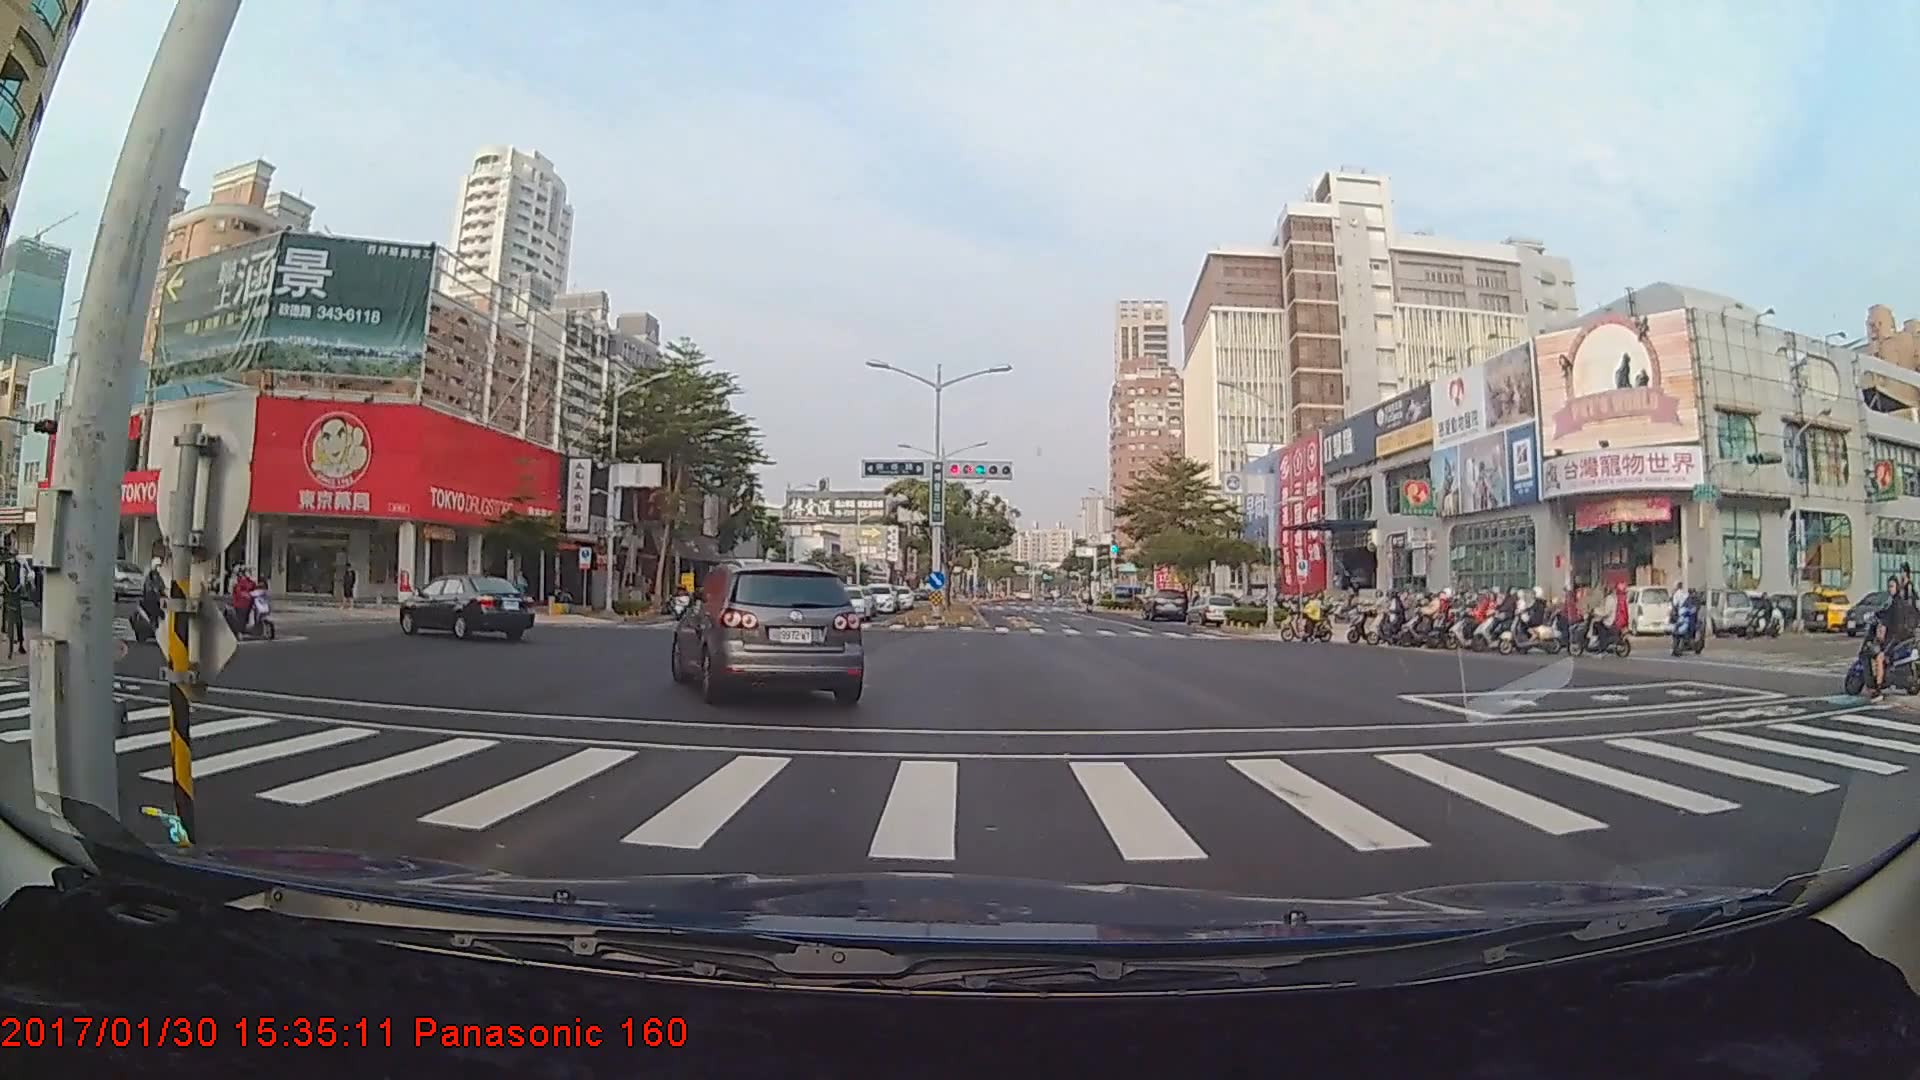rider: (1841, 563, 1920, 703), (1564, 578, 1634, 665), (218, 569, 280, 642), (1500, 586, 1565, 656), (1472, 589, 1531, 649), (1338, 591, 1402, 646), (1380, 591, 1435, 648), (1277, 588, 1334, 641), (1670, 590, 1711, 660), (667, 584, 693, 622)
vehicle: (672, 557, 868, 702), (398, 573, 535, 642), (73, 558, 154, 601), (1141, 587, 1188, 622), (861, 581, 898, 612)
